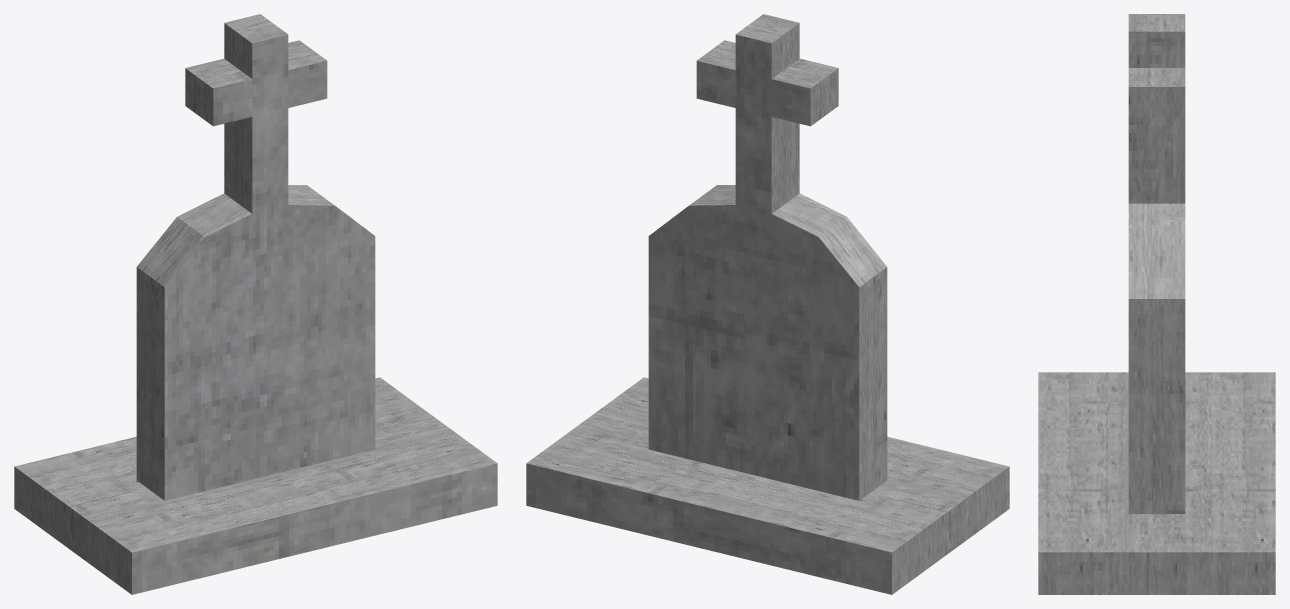
Rendered from Gravestone2.glb.
The picture shows the model from 3 angles, left to right: view 1: azimuth 30°, elevation 25°; view 2: azimuth 150°, elevation 25°; view 3: azimuth 270°, elevation 25°; orthographic projection.
Parts seen in each view (by area): view 1: Gravestone2; view 2: Gravestone2; view 3: Gravestone2.
Part boxes in pixels (x1,y1,x2,y2): Gravestone2: (14,14,497,594); Gravestone2: (526,14,1009,594); Gravestone2: (1038,14,1275,594).
Size of the model in its own units: 4.71 by 5.89 by 2.63.
Materials: 1 (1 with a texture image).
